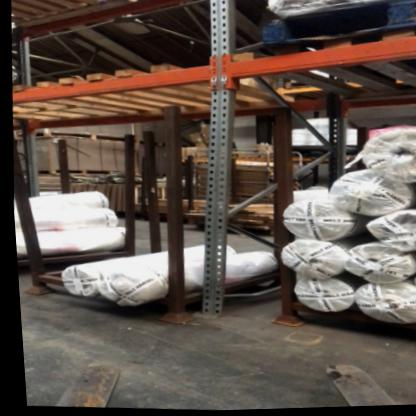vertical_damage: (191, 278, 226, 318)
